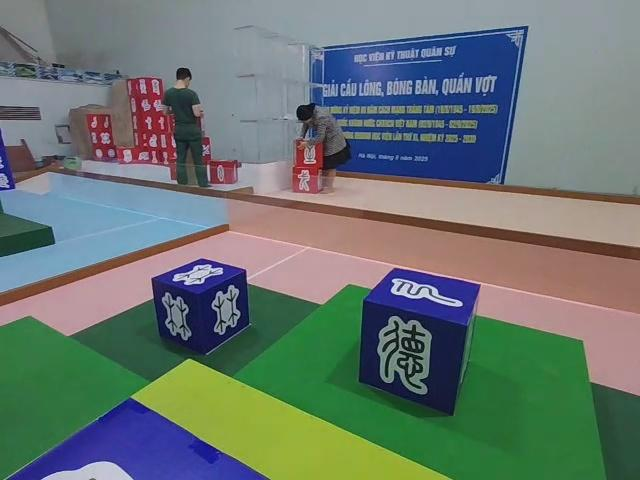R2 Fake Blue: (358, 266, 481, 417)
R2 Real Blue: (152, 261, 252, 358)
